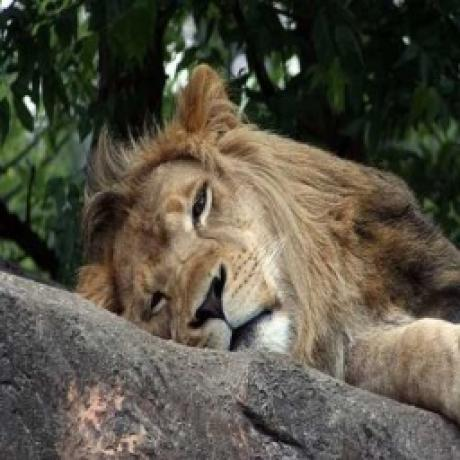Lion: (70, 61, 460, 426)
